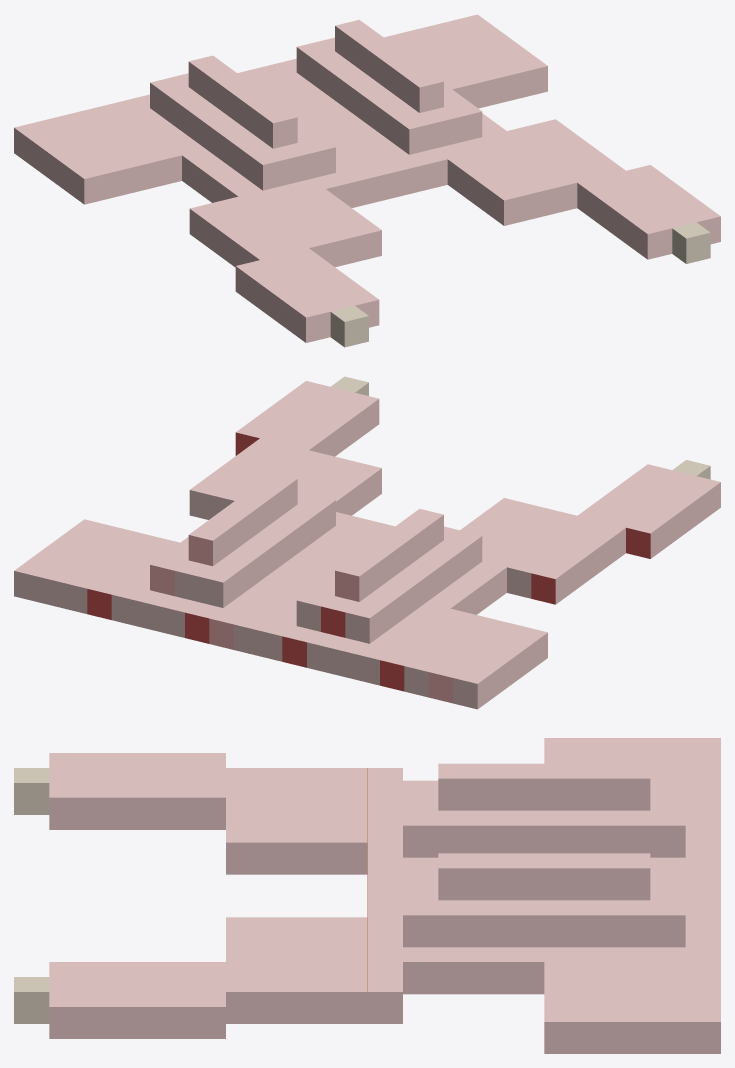
Rendered from Pollo_Asado_Spatchcocked.fbx.
3 views of the same model, one above another, from view 1: azimuth 30°, elevation 25°; view 2: azimuth 150°, elevation 25°; view 3: azimuth 270°, elevation 25° (orthographic). The views are drawn at different scales.
Visible parts, largest first — view 1: rdrum_16_22, lb_6_12_2, rb_12_12_2, rb_13_11_3, ldrum_2_22, rbone, lb_7_11_3, rthigh_13_17, lwing_1_8, lbone, lwing_2_8, rb_11_13_1 (+67 smaller); view 2: lb_6_5_2, lb_7_6_3, ldrum_2_18, rb_12_5_2, lthigh_3_13, lwing_1_4, rb_13_6_3, rwing_17_4, lb_7_4_1, lb_8_5_2, lb_5_4_1, lwing_4_4 (+66 smaller); view 3: lb_8_5_2, lb_7_8_3, lb_7_11_3, rb_15_11_1, rb_14_5_2, rb_14_8_2, rb_14_11_2, rb_13_8_3, rb_13_11_3, lthigh_7_16, lb_8_12_2, lb_7_6_3 (+159 smaller).
Boxes of the visible parts, x1,y1,x2,y2 form: rdrum_16_22: [633, 218, 672, 259]; lb_6_12_2: [248, 149, 287, 190]; rb_12_12_2: [395, 113, 433, 154]; rb_13_11_3: [405, 71, 443, 112]; ldrum_2_22: [292, 301, 330, 342]; rbone: [672, 222, 710, 263]; lb_7_11_3: [259, 107, 297, 148]; rthigh_13_17: [490, 184, 528, 225]; lwing_1_8: [70, 163, 108, 204]; lbone: [330, 305, 368, 347]; lwing_2_8: [95, 157, 133, 198]; rb_11_13_1: [385, 155, 423, 196]; lb_6_5_2: [345, 602, 383, 643]; lb_7_6_3: [335, 560, 373, 601]; ldrum_2_18: [626, 517, 664, 558]; rb_12_5_2: [199, 566, 237, 607]; lthigh_3_13: [531, 563, 569, 604]; lwing_1_4: [453, 667, 491, 709]; rb_13_6_3: [188, 524, 226, 566]; rwing_17_4: [62, 572, 100, 613]; lb_7_4_1: [307, 632, 344, 673]; lb_8_5_2: [296, 590, 334, 631]; lb_5_4_1: [355, 644, 393, 685]; lwing_4_4: [380, 650, 418, 691]; lb_8_5_2: [650, 810, 685, 857]; lb_7_8_3: [544, 763, 579, 810]; lb_7_11_3: [438, 763, 473, 810]; rb_15_11_1: [438, 947, 473, 994]; rb_14_5_2: [650, 900, 685, 947]; rb_14_8_2: [544, 900, 579, 947]; rb_14_11_2: [438, 900, 473, 947]; rb_13_8_3: [544, 853, 579, 900]; rb_13_11_3: [438, 853, 473, 900]; lthigh_7_16: [261, 827, 296, 874]; lb_8_12_2: [403, 810, 438, 857]; lb_7_6_3: [615, 763, 650, 810].
Size of the model in its own units: 119 by 18.75 by 125.
Materials: 4 (4 with a texture image).
